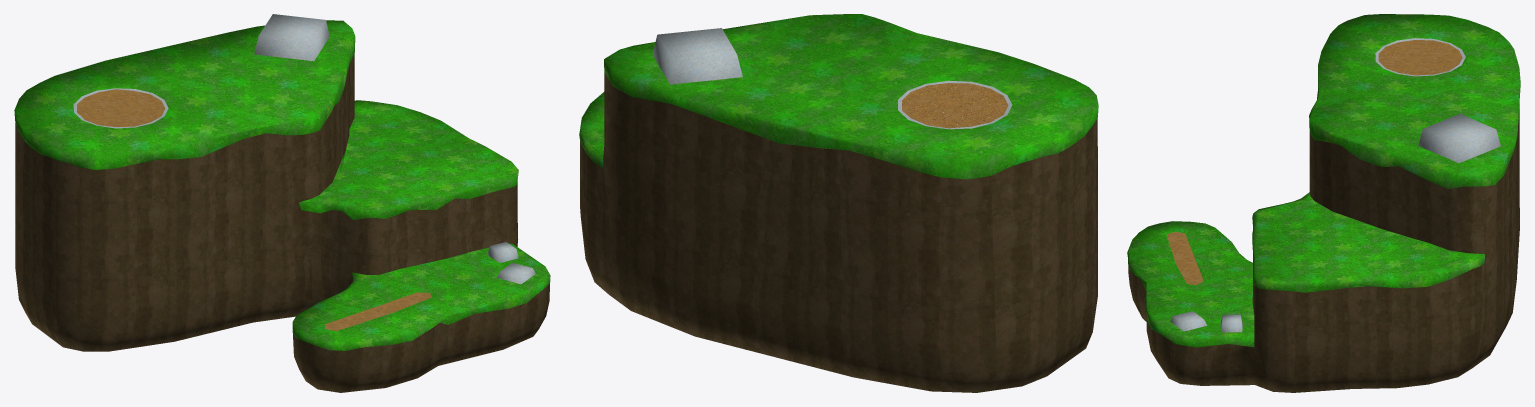
File: HikeGardenAttackSpikePlanet.fbx
The picture shows the model from 3 angles, left to right: view 1: azimuth 30°, elevation 25°; view 2: azimuth 150°, elevation 25°; view 3: azimuth 270°, elevation 25°; orthographic projection. The views are drawn at different scales.
Parts seen in each view (by area): view 1: Plane.002, Plane.003, Plane.000, Plane.001; view 2: Plane.002, Plane.003, Plane.000, Plane.001; view 3: Plane.003, Plane.002, Plane.000, Plane.001.
Boxes of the visible parts, x1,y1,x2,y2 form: Plane.002: (15, 54, 549, 392); Plane.003: (14, 20, 550, 350); Plane.000: (73, 14, 535, 284); Plane.001: (77, 89, 431, 331); Plane.002: (580, 72, 1097, 392); Plane.003: (579, 14, 1098, 179); Plane.000: (652, 28, 1012, 129); Plane.001: (902, 83, 1008, 128); Plane.003: (1127, 14, 1520, 347); Plane.002: (1128, 104, 1519, 392); Plane.000: (1170, 38, 1500, 332); Plane.001: (1166, 40, 1462, 284).
Bounding box in the file's own units: 569661 × 285622 × 489158.
Materials: 4 (4 with a texture image).
